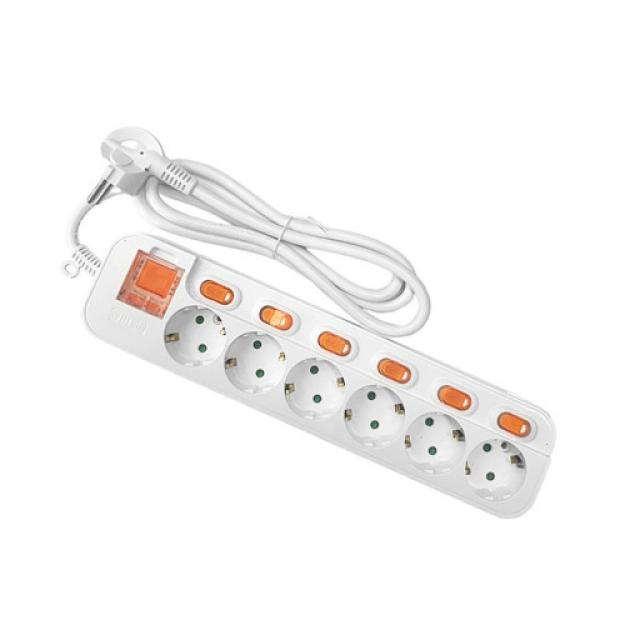typeb: (63, 176, 562, 543)
